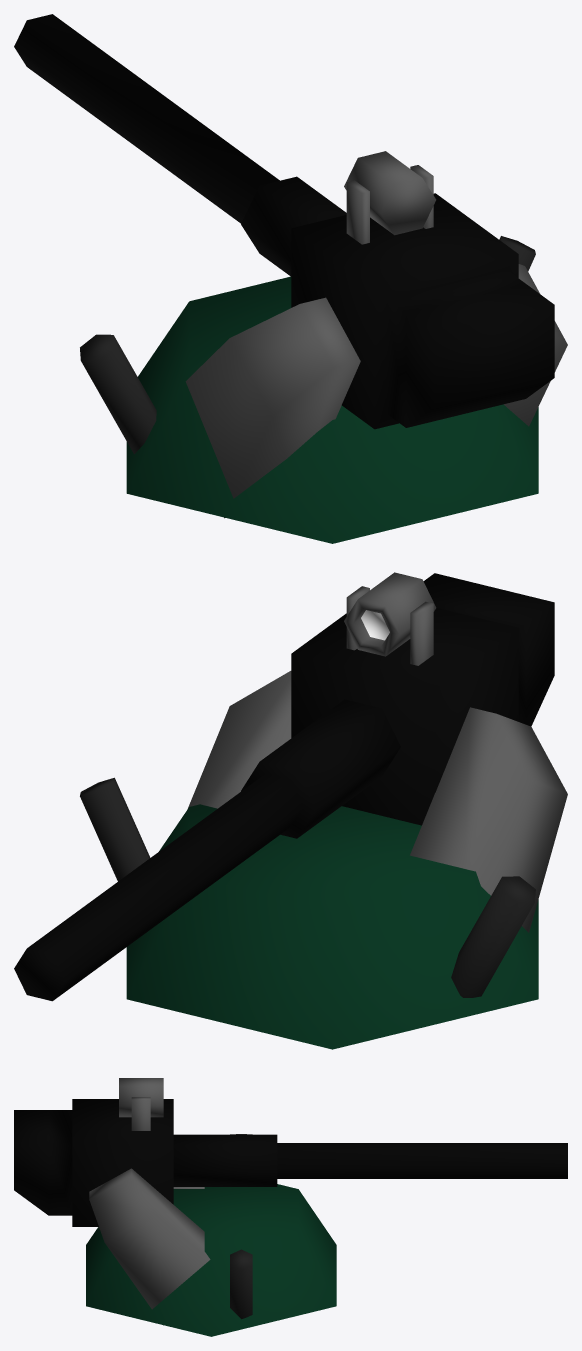
File: Warsaw-BTR82A-Turret.obj
The picture shows the model from 3 angles, top to bottom: view 1: azimuth 30°, elevation 25°; view 2: azimuth 150°, elevation 25°; view 3: azimuth 270°, elevation 25°; orthographic projection. The views are drawn at different scales.
Visible parts, largest first — view 1: BTR82A_Turret_Cube.003; view 2: BTR82A_Turret_Cube.003; view 3: BTR82A_Turret_Cube.003.
Part boxes in pixels (x1=…): BTR82A_Turret_Cube.003: x1=14, y1=14, x2=567, y2=543; BTR82A_Turret_Cube.003: x1=14, y1=572, x2=567, y2=1049; BTR82A_Turret_Cube.003: x1=14, y1=1078, x2=567, y2=1336.
Size of the model in its own units: 0.8335 by 0.5747 by 1.45.
